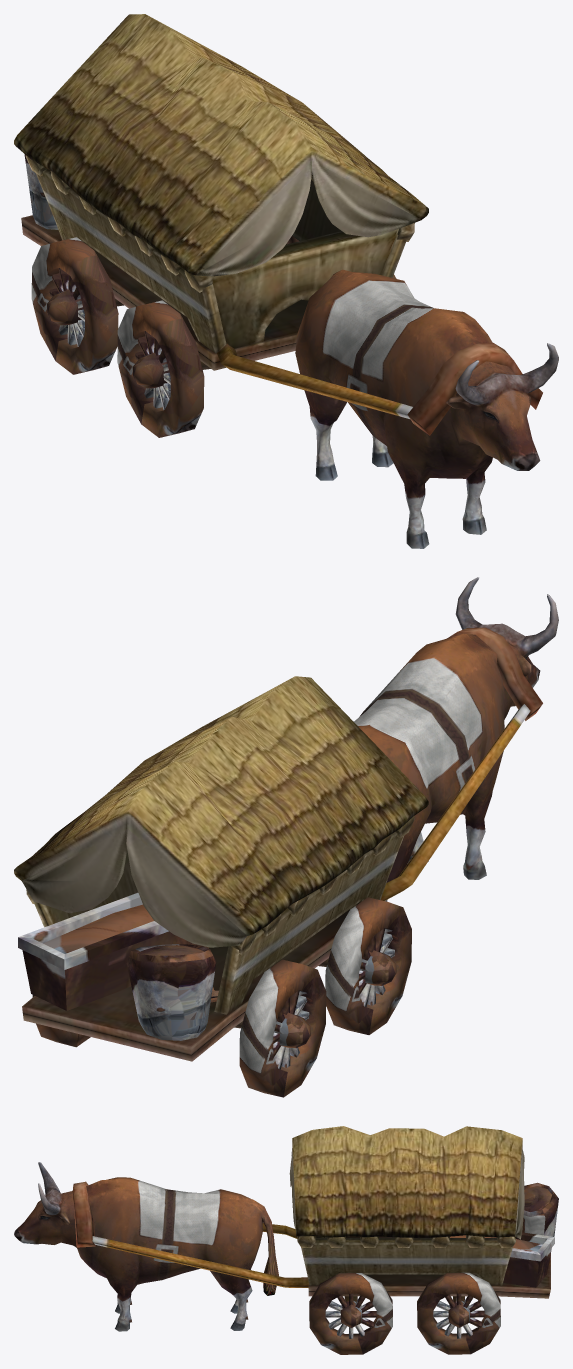
The model's file is 72-oxcartbuilding.glb.
3 renders of one model, top to bottom at view 1: azimuth 30°, elevation 25°; view 2: azimuth 150°, elevation 25°; view 3: azimuth 270°, elevation 25°, orthographic. The views are drawn at different scales.
Bounding box in the file's own units: 2.38 × 2.67 × 6.83.
Materials: 2 (2 with a texture image).
